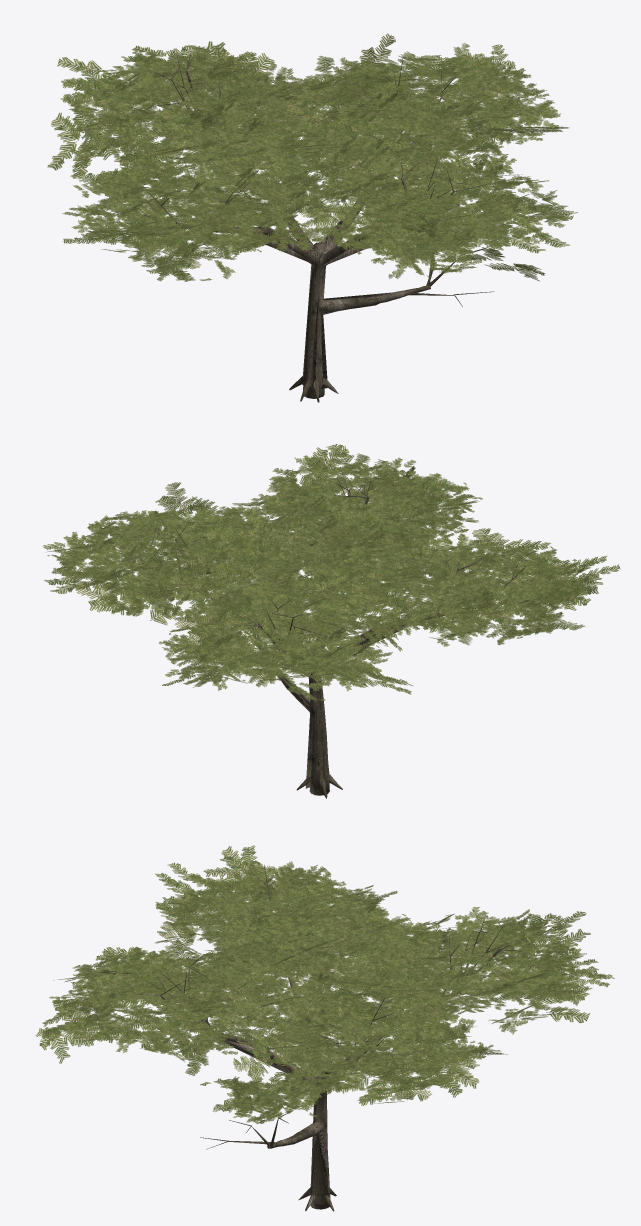
Rendered from acacia-23.glb.
3 views of the same model, one above another, from view 1: azimuth 30°, elevation 25°; view 2: azimuth 150°, elevation 25°; view 3: azimuth 270°, elevation 25° (orthographic). The views are drawn at different scales.
Parts seen in each view (by area): view 1: leaves, leaves_far, bark, bark_far; view 2: leaves, leaves_far, bark, bark_far; view 3: leaves, leaves_far, bark, bark_far.
Part boxes in pixels (x1,y1,x2,y2): leaves: (60, 43, 567, 281); leaves_far: (47, 33, 578, 281); bark: (141, 53, 494, 402); bark_far: (155, 71, 465, 389); leaves: (47, 455, 592, 701); leaves_far: (43, 444, 620, 694); bark: (138, 467, 526, 798); bark_far: (144, 483, 516, 788); leaves: (49, 861, 588, 1124); leaves_far: (35, 845, 614, 1117); bark: (138, 864, 522, 1211); bark_far: (149, 892, 500, 1205).
Size of the model in its own units: 14.48 by 7.1 by 14.24.
Materials: 2 (2 with a texture image).
